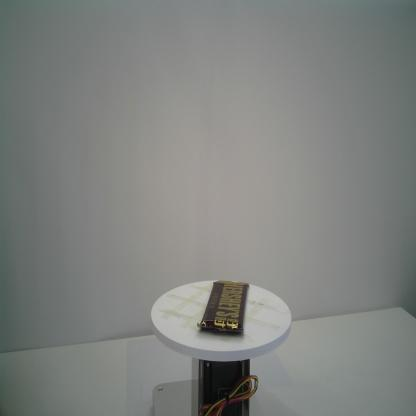Chocolate: (196, 279, 250, 335)
